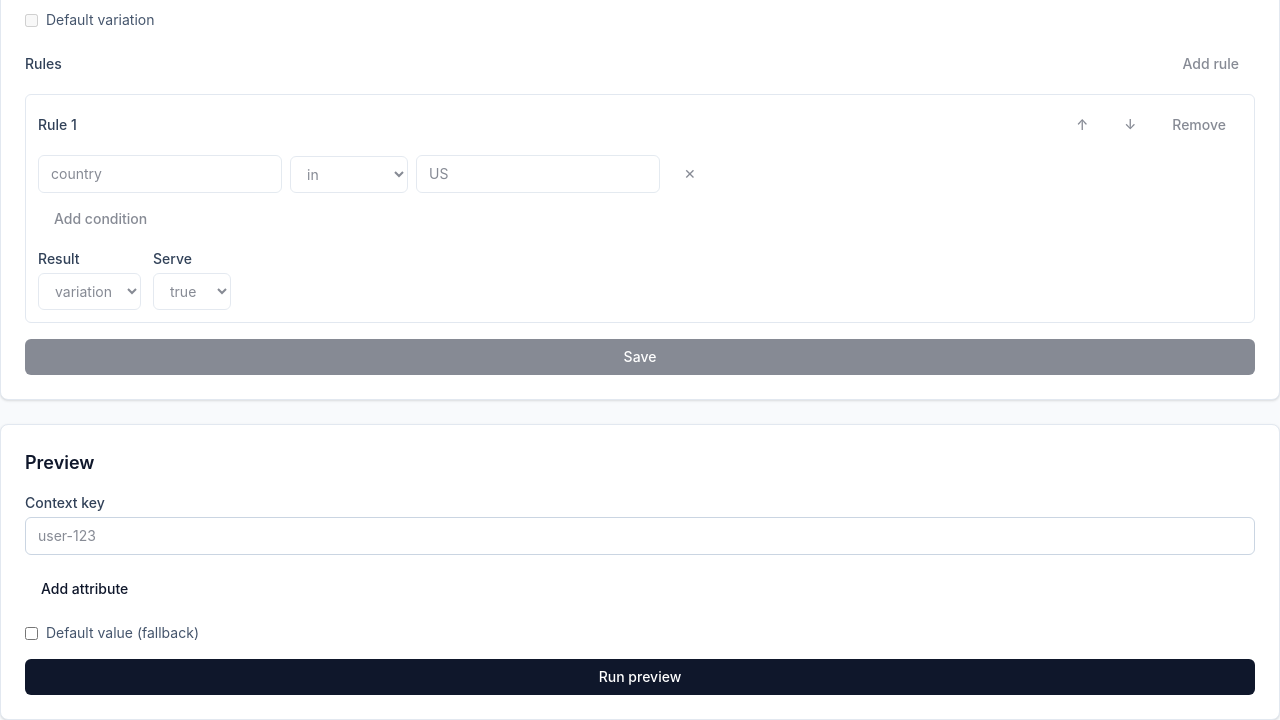
FlagEditorRoute › renders read-only for members (Save disabled) but preview still works
The image size is (1280, 720).
(page scrolled)
Expected: the button "Save" is disabled, [25,339,1255,375]
Preview remains available to members.
What coordinates should you click on to do the following:
click the button "Run preview"
I would click on:
 (640, 677)
Its box is [25,659,1255,695].
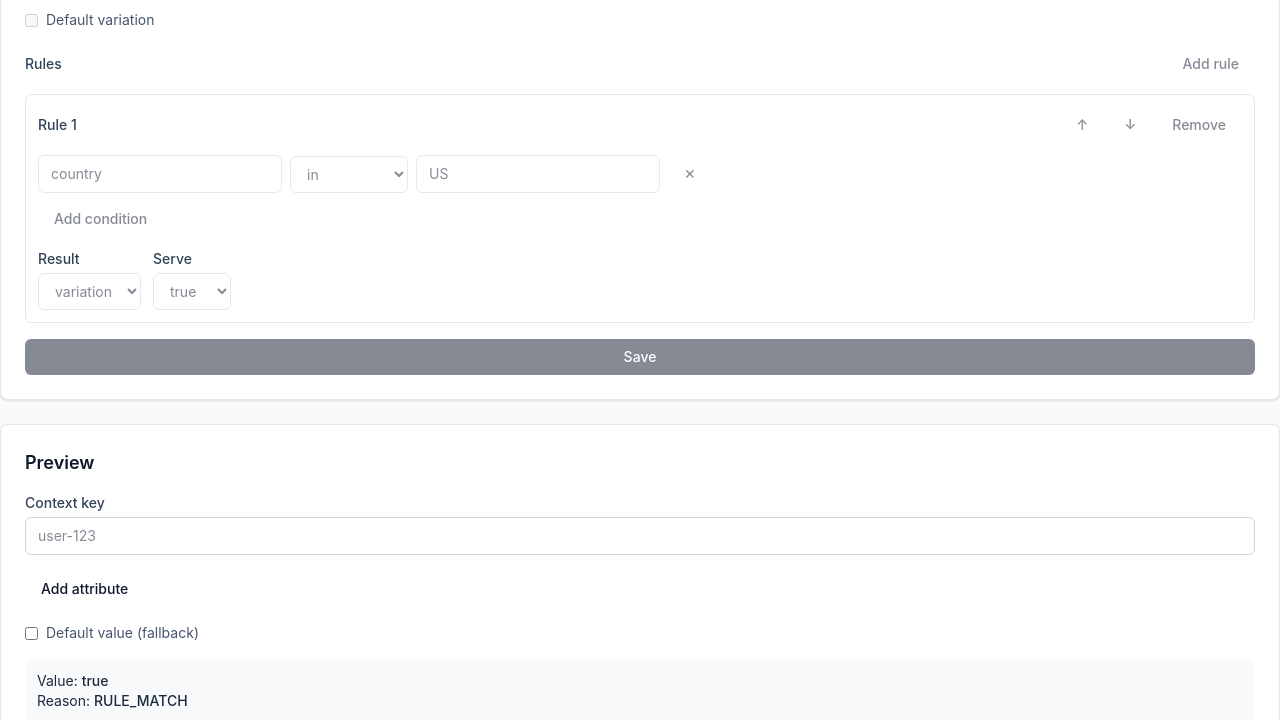
Expected: the text "RULE_MATCH" is shown, [94,692,188,709]
